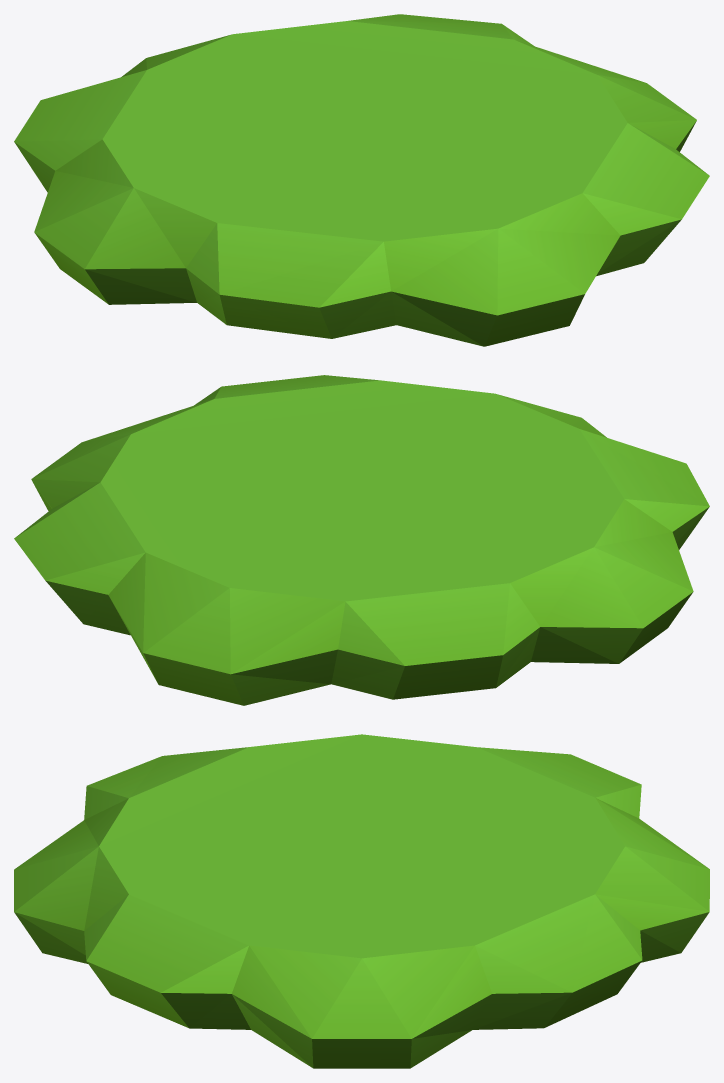
Rendered from lettuce.glb.
3 renders of one model, top to bottom at view 1: azimuth 30°, elevation 25°; view 2: azimuth 150°, elevation 25°; view 3: azimuth 270°, elevation 25°, orthographic.
Visible parts, largest first — view 1: Lettuce; view 2: Lettuce; view 3: Lettuce.
Part boxes in pixels (bbox=[...]): Lettuce: bbox=[14, 14, 709, 346]; Lettuce: bbox=[14, 375, 709, 705]; Lettuce: bbox=[14, 734, 709, 1068].
Bounding box in the file's own units: 0.14 × 0.019 × 0.139.
1 material, 1 textured.
